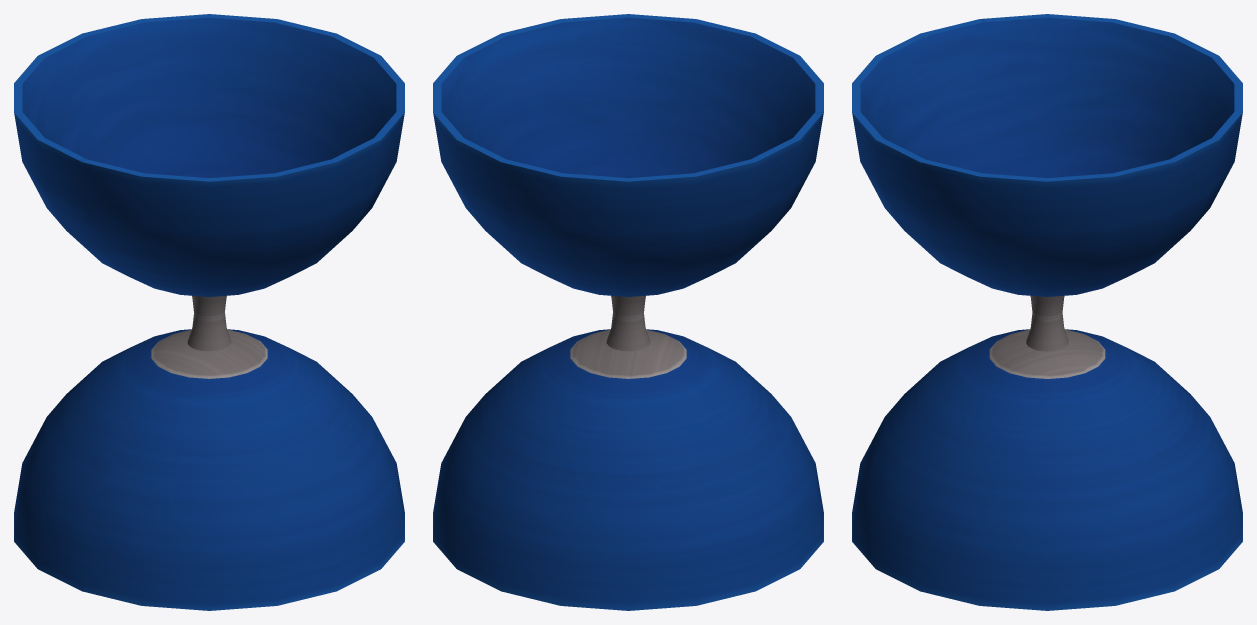
Rendered from Diabolo_Blue_Scaled.fbx.
The picture shows the model from 3 angles, left to right: view 1: azimuth 30°, elevation 25°; view 2: azimuth 150°, elevation 25°; view 3: azimuth 270°, elevation 25°; orthographic projection.
Visible parts, largest first — view 1: Diabolo_Body9; view 2: Diabolo_Body9; view 3: Diabolo_Body9.
Part boxes in pixels (left/top/right/bottom): Diabolo_Body9: left=14, top=14, right=404, bottom=610; Diabolo_Body9: left=433, top=14, right=823, bottom=610; Diabolo_Body9: left=852, top=14, right=1242, bottom=610.
Size of the model in its own units: 9.85 by 11.75 by 9.7.
